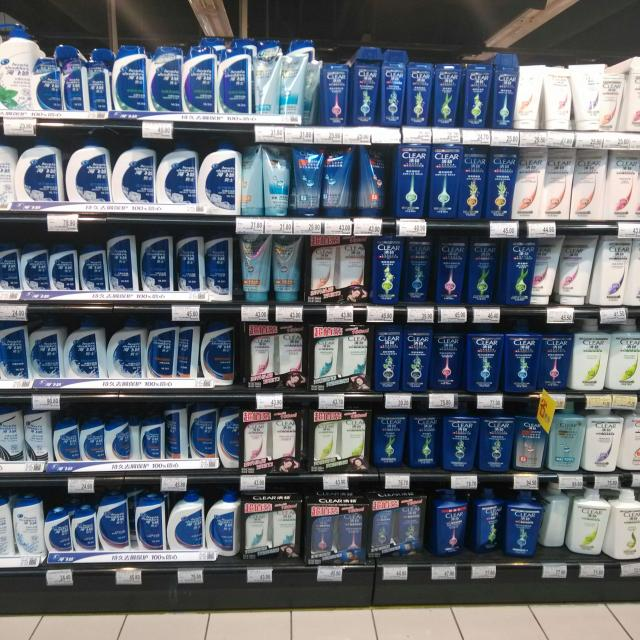unorganised: (405, 236, 501, 308), (533, 234, 594, 308), (241, 146, 290, 215), (356, 146, 391, 220), (436, 488, 471, 561), (472, 487, 505, 556), (540, 480, 567, 554), (164, 400, 189, 458), (601, 72, 622, 131), (305, 58, 320, 128), (127, 418, 143, 465)
